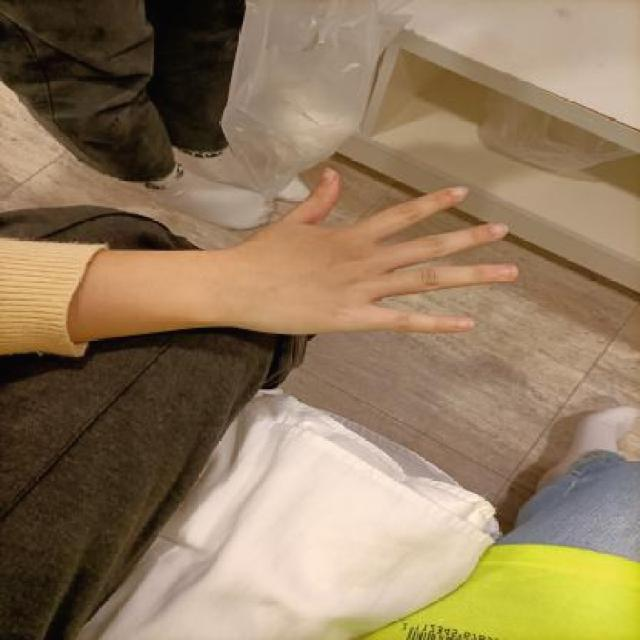no_glove: (172, 154, 537, 357)
